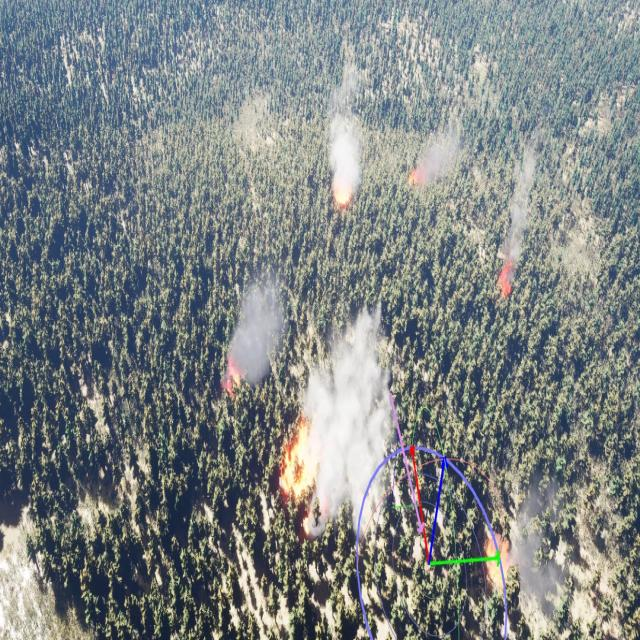fire: (277, 414, 321, 528), (486, 524, 512, 587), (222, 358, 246, 402), (494, 272, 517, 306), (410, 162, 428, 195), (334, 183, 356, 210)
smoke: (299, 291, 394, 548), (512, 478, 560, 618), (232, 274, 288, 390), (505, 148, 535, 272), (326, 111, 361, 188), (423, 131, 460, 200)
